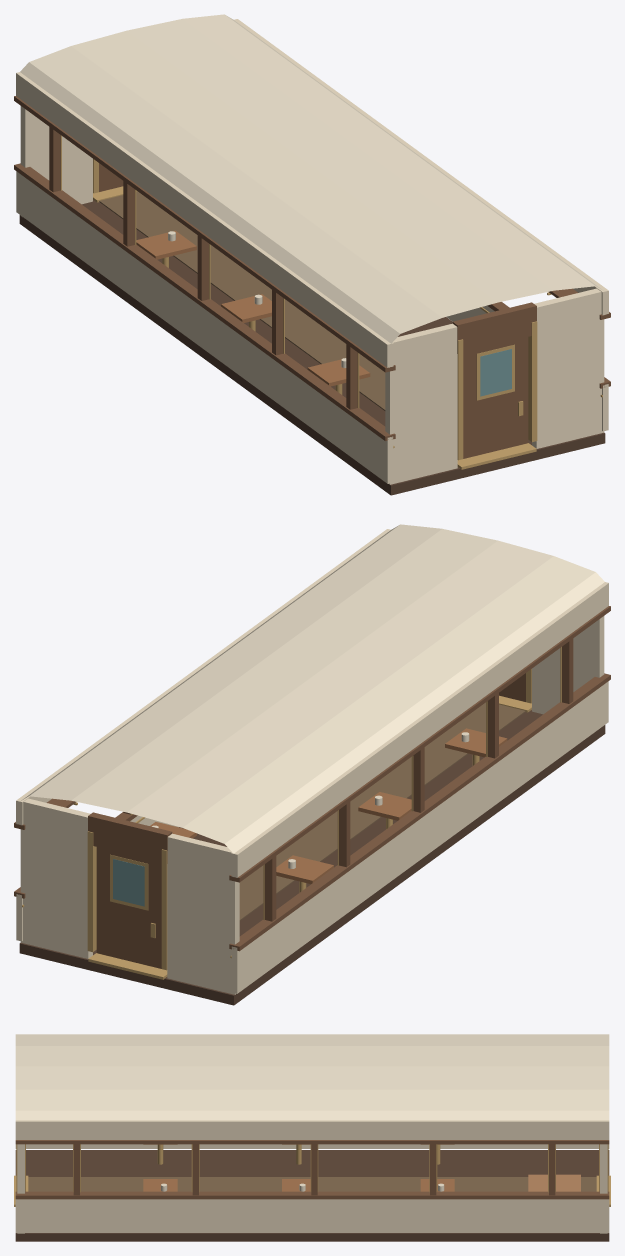
File: carriage_cafe.glb
The picture shows the model from 3 angles, top to bottom: view 1: azimuth 30°, elevation 25°; view 2: azimuth 150°, elevation 25°; view 3: azimuth 270°, elevation 25°; orthographic projection. The views are drawn at different scales.
Parts seen in each view (by area): view 1: Faceted curved ceiling, Vestibule side panel (×3), Lower side wall, Upper side wall (×2), Full width floor, Open aisle runner, Continuous window sill, Sliding door panel, Window pillar (×5), Cafe table top (×3), Window header, Vestibule lintel (+4 smaller); view 2: Faceted curved ceiling, Vestibule side panel (×3), Lower side wall, Upper side wall (×2), Full width floor, Open aisle runner, Continuous window sill, Sliding door panel, Window pillar (×5), Cafe table top (×3), Window header, Vestibule lintel (+4 smaller); view 3: Faceted curved ceiling, Lower side wall (×2), Full width floor, Upper side wall, Open aisle runner, Continuous window sill, Window header, Window pillar (×5), Cafe table top (×3), Vestibule side panel (×2), Cafe counter top.
Boxes of the visible parts, box(x1,y1,x2,y2) form: Faceted curved ceiling: box(20, 14, 603, 343); Vestibule side panel (×3): box(20, 106, 604, 484); Lower side wall: box(16, 171, 393, 483); Upper side wall (×2): box(16, 19, 608, 367); Full width floor: box(19, 200, 605, 495); Open aisle runner: box(99, 191, 385, 410); Continuous window sill: box(14, 163, 395, 441); Sliding door panel: box(463, 337, 528, 458); Window pillar (×5): box(49, 127, 357, 409); Cafe table top (×3): box(136, 230, 370, 386); Window header: box(14, 96, 395, 372); Vestibule lintel: box(452, 302, 536, 353); Faceted curved ceiling: box(21, 524, 604, 853); Vestibule side panel (×3): box(20, 616, 604, 994); Lower side wall: box(231, 681, 608, 993); Upper side wall (×2): box(16, 529, 608, 877); Full width floor: box(19, 710, 605, 1005); Open aisle runner: box(239, 702, 525, 920); Continuous window sill: box(229, 673, 610, 951); Sliding door panel: box(96, 847, 161, 968); Window pillar (×5): box(264, 638, 573, 921); Cafe table top (×3): box(276, 728, 507, 883); Window header: box(229, 606, 610, 882); Vestibule lintel: box(88, 812, 172, 863); Faceted curved ceiling: box(15, 1034, 609, 1120); Lower side wall (×2): box(15, 1144, 609, 1232); Full width floor: box(15, 1150, 609, 1241); Upper side wall: box(15, 1120, 609, 1139); Open aisle runner: box(28, 1177, 596, 1191); Continuous window sill: box(15, 1191, 609, 1199); Window header: box(15, 1140, 609, 1144); Window pillar (×5): box(73, 1144, 555, 1195); Cafe table top (×3): box(143, 1179, 454, 1191); Vestibule side panel (×2): box(17, 1144, 607, 1233); Cafe counter top: box(528, 1174, 580, 1191).
Bounding box in the file's own units: 5.26 × 3.72 × 15.08.
